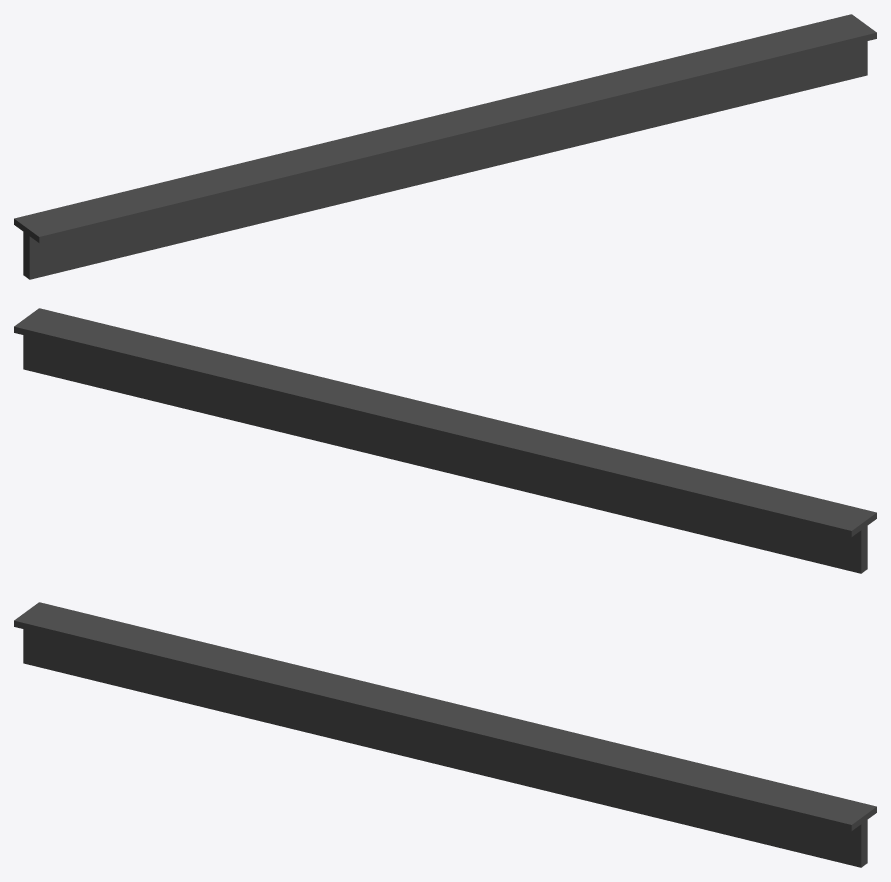
File: TableText.fbx
3 renders of one model, top to bottom at view 1: azimuth 30°, elevation 25°; view 2: azimuth 150°, elevation 25°; view 3: azimuth 330°, elevation 25°, orthographic.
Visible parts, largest first — view 1: barrier; view 2: barrier; view 3: barrier.
Boxes of the visible parts, <box> form: barrier: <box>14,14,876,279</box>; barrier: <box>14,308,876,573</box>; barrier: <box>14,602,876,867</box>.
Bounding box in the file's own units: 1500 × 85.15 × 78.3.
Materials: 1 (1 with a texture image).
